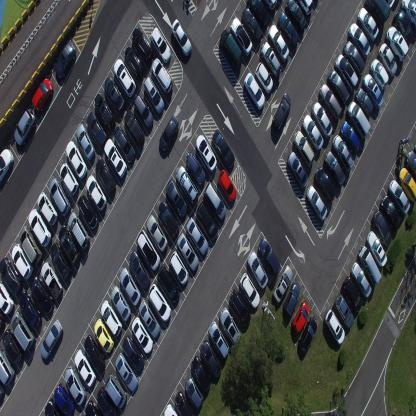car: (28, 274, 54, 315), (210, 128, 235, 170), (11, 310, 36, 352), (104, 136, 128, 178), (18, 225, 42, 267), (118, 266, 142, 308), (115, 351, 139, 393), (358, 244, 382, 286), (112, 124, 136, 165), (136, 229, 160, 270), (219, 28, 243, 69), (229, 16, 253, 57), (64, 364, 87, 406), (40, 318, 63, 359), (346, 100, 370, 139), (138, 298, 160, 340), (258, 236, 281, 276), (113, 58, 136, 98), (48, 177, 71, 217), (67, 210, 90, 250), (28, 208, 51, 248), (199, 339, 222, 379), (327, 68, 350, 108), (335, 53, 358, 93), (202, 182, 226, 220), (147, 283, 171, 321), (40, 262, 64, 300), (276, 10, 300, 48), (176, 165, 198, 206), (50, 240, 72, 281), (324, 149, 346, 190), (243, 71, 265, 112), (385, 25, 409, 62), (58, 225, 80, 265), (146, 213, 168, 253), (128, 250, 150, 290), (93, 92, 115, 132), (332, 133, 354, 173), (18, 290, 41, 328), (121, 334, 144, 372), (388, 178, 411, 216), (347, 22, 371, 58), (54, 39, 75, 80), (171, 17, 192, 58), (165, 180, 187, 219), (157, 264, 179, 303), (272, 265, 294, 304), (151, 56, 173, 95), (66, 140, 88, 179), (0, 256, 22, 295), (74, 349, 96, 388), (100, 299, 122, 338), (219, 306, 241, 345), (268, 24, 290, 63), (95, 157, 116, 197), (247, 249, 268, 289), (158, 114, 179, 154), (208, 320, 229, 360), (194, 134, 216, 172), (186, 218, 208, 256), (196, 201, 218, 239), (177, 233, 199, 271), (229, 288, 251, 326), (12, 108, 34, 146), (103, 75, 125, 113), (150, 26, 172, 64), (131, 316, 153, 354), (366, 230, 388, 268), (306, 184, 328, 222), (293, 130, 315, 168), (311, 101, 333, 139), (314, 166, 336, 204), (260, 41, 282, 79), (320, 84, 342, 122), (77, 194, 100, 230), (30, 77, 53, 113), (104, 374, 127, 410), (144, 76, 165, 115), (342, 275, 363, 314), (287, 151, 308, 190), (303, 113, 324, 152), (12, 243, 34, 280), (110, 285, 132, 322), (343, 40, 365, 77), (372, 209, 392, 249), (272, 92, 292, 132), (123, 108, 144, 146), (158, 201, 179, 239), (86, 110, 107, 148), (351, 262, 372, 300), (357, 7, 379, 43), (84, 334, 104, 373), (132, 93, 153, 130), (86, 174, 107, 211), (380, 193, 401, 230), (393, 8, 414, 45), (298, 316, 318, 354), (132, 26, 152, 64), (325, 308, 345, 346), (239, 272, 260, 308), (190, 356, 211, 392), (362, 72, 383, 108), (2, 328, 22, 365), (76, 124, 96, 160), (94, 318, 114, 354), (37, 191, 58, 225), (184, 151, 204, 186), (124, 45, 144, 80), (59, 161, 79, 196), (334, 294, 354, 329), (242, 6, 262, 41), (54, 382, 75, 415), (284, 0, 307, 30), (290, 300, 309, 336), (398, 166, 416, 204), (340, 120, 360, 154), (365, 0, 390, 27), (282, 281, 300, 318), (378, 42, 397, 77), (246, 0, 271, 26), (170, 250, 189, 284), (185, 376, 204, 410), (96, 386, 117, 416), (217, 169, 236, 202), (370, 57, 389, 90), (254, 62, 273, 94), (0, 345, 15, 385), (356, 87, 374, 119), (0, 148, 14, 186), (174, 390, 194, 415), (0, 280, 14, 314), (402, 0, 416, 29), (44, 397, 64, 415), (406, 150, 416, 182), (84, 400, 103, 415), (295, 0, 314, 15), (162, 403, 178, 415), (261, 0, 278, 11), (381, 0, 396, 11), (0, 384, 6, 401), (0, 313, 6, 328)
